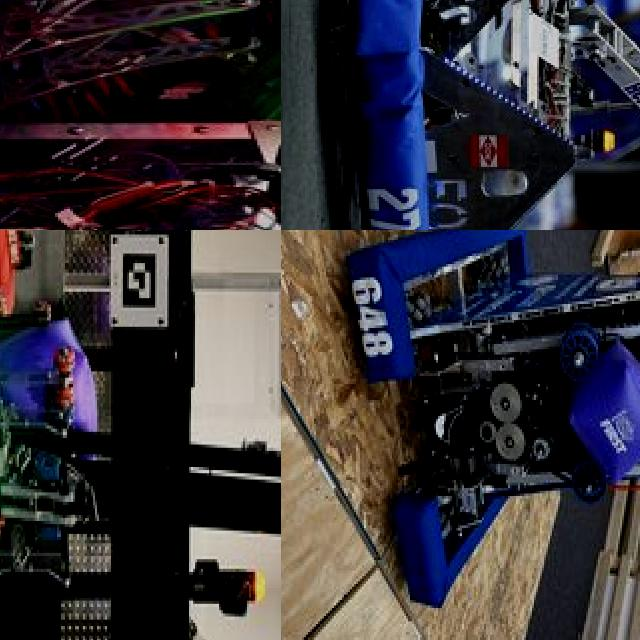FRC-Robots: (0, 230, 281, 640), (365, 230, 640, 609), (328, 0, 640, 230)
